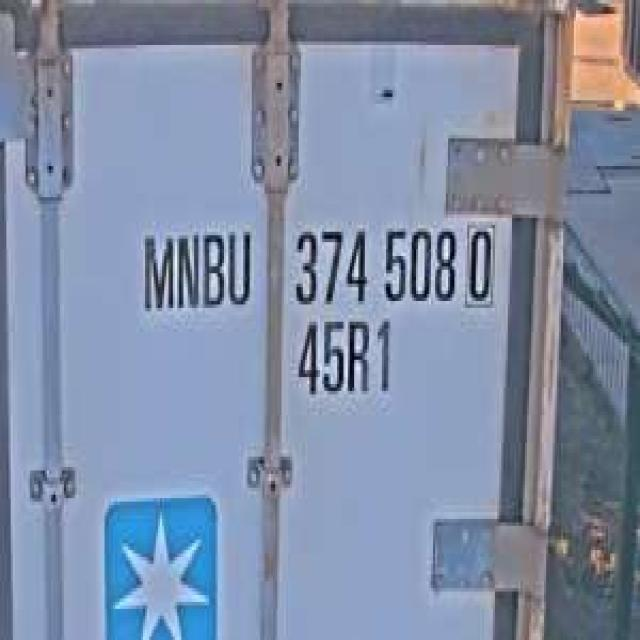dv: (463, 211, 497, 308)
owner: (137, 214, 256, 318)
serial: (286, 207, 459, 308)
size: (292, 311, 397, 405)
